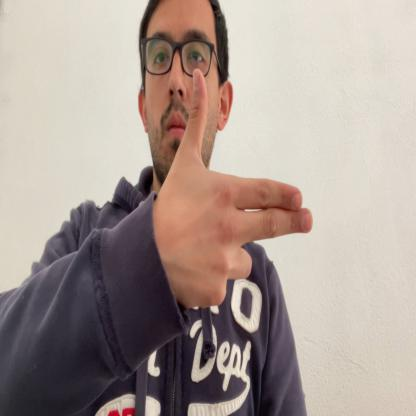H: (162, 68, 314, 312)
